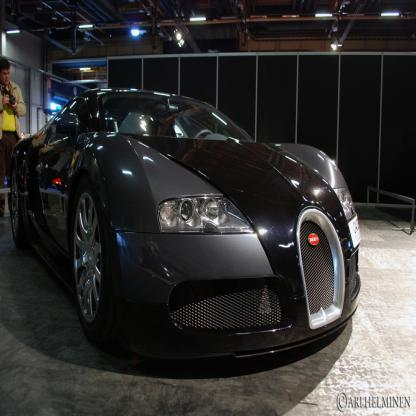Car: (10, 88, 361, 359)
